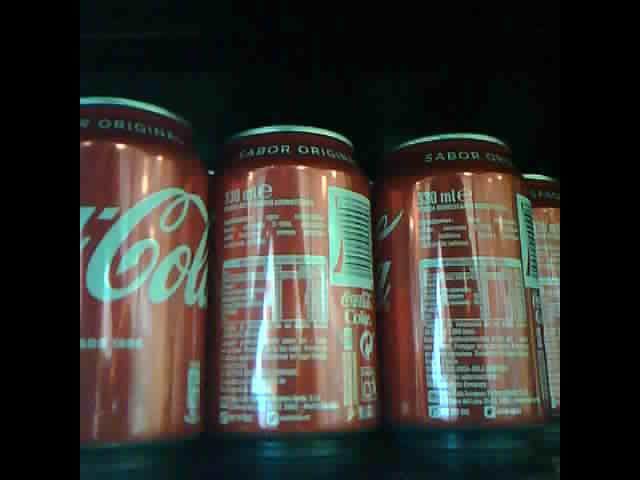coca cola: (373, 129, 554, 436), (210, 117, 380, 439), (78, 93, 207, 448), (514, 165, 559, 423)
